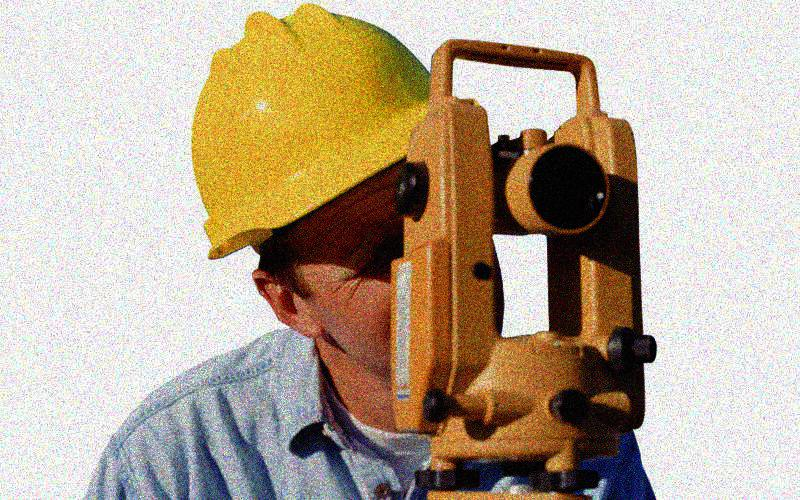helmet: (190, 4, 509, 374)
